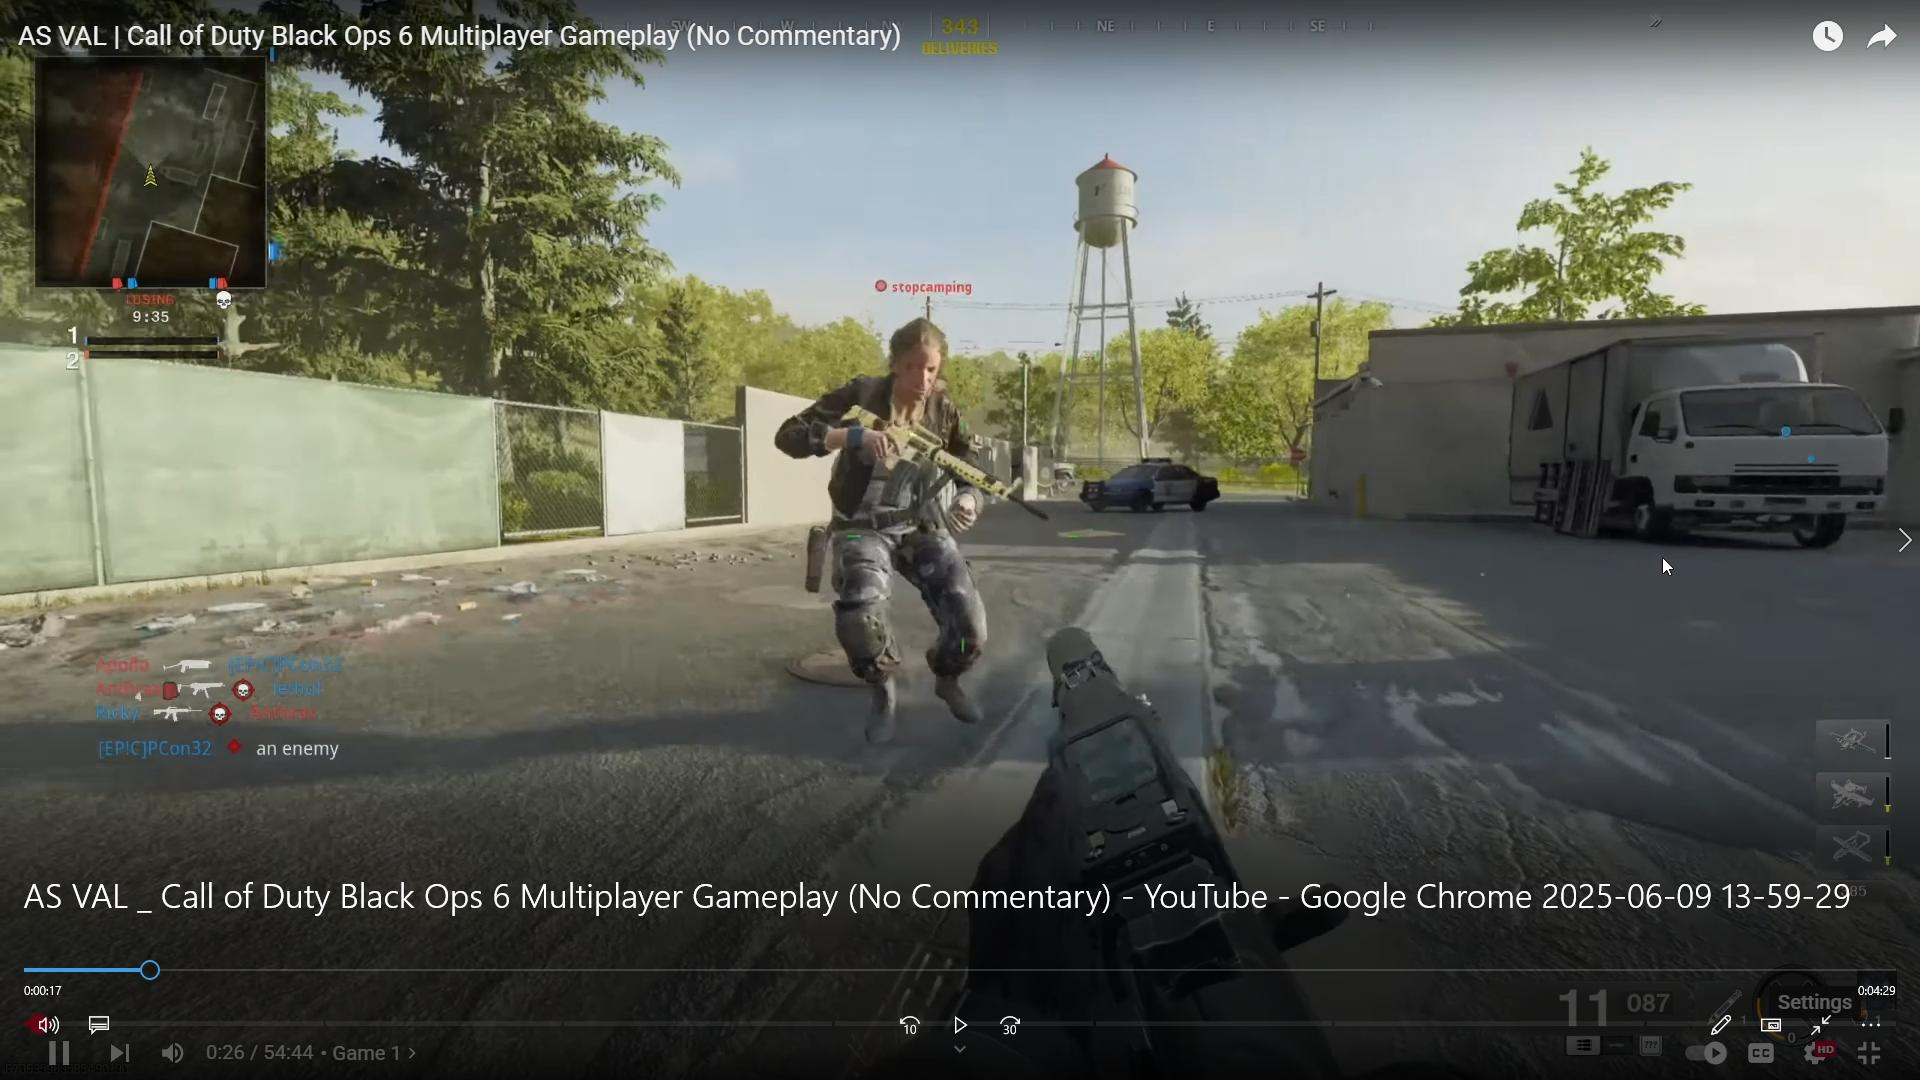Enemy: (738, 305, 1047, 707)
